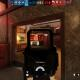Friend_label: (31, 29, 34, 32)
